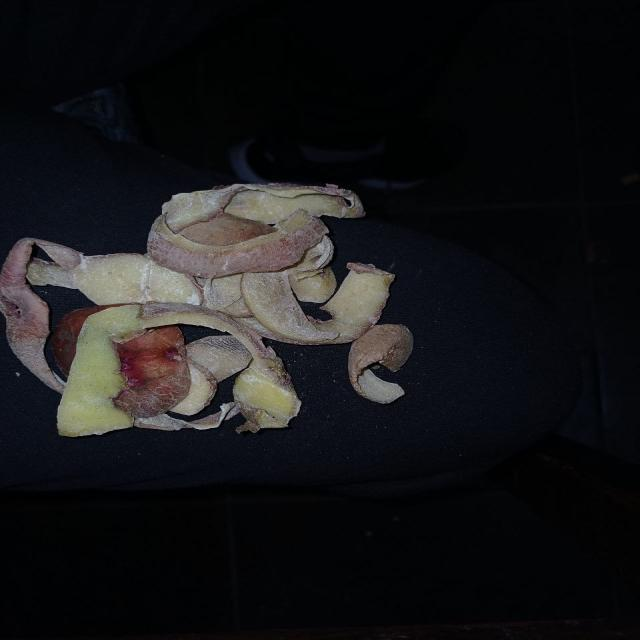organic: (2, 181, 414, 435)
